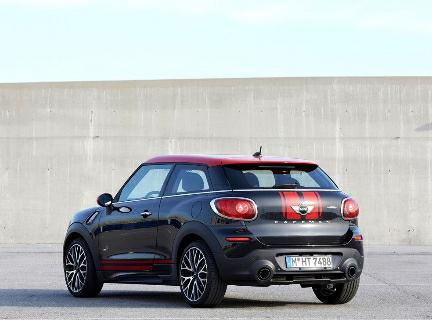MINI-JCWPACEMAN: (60, 155, 366, 311)
